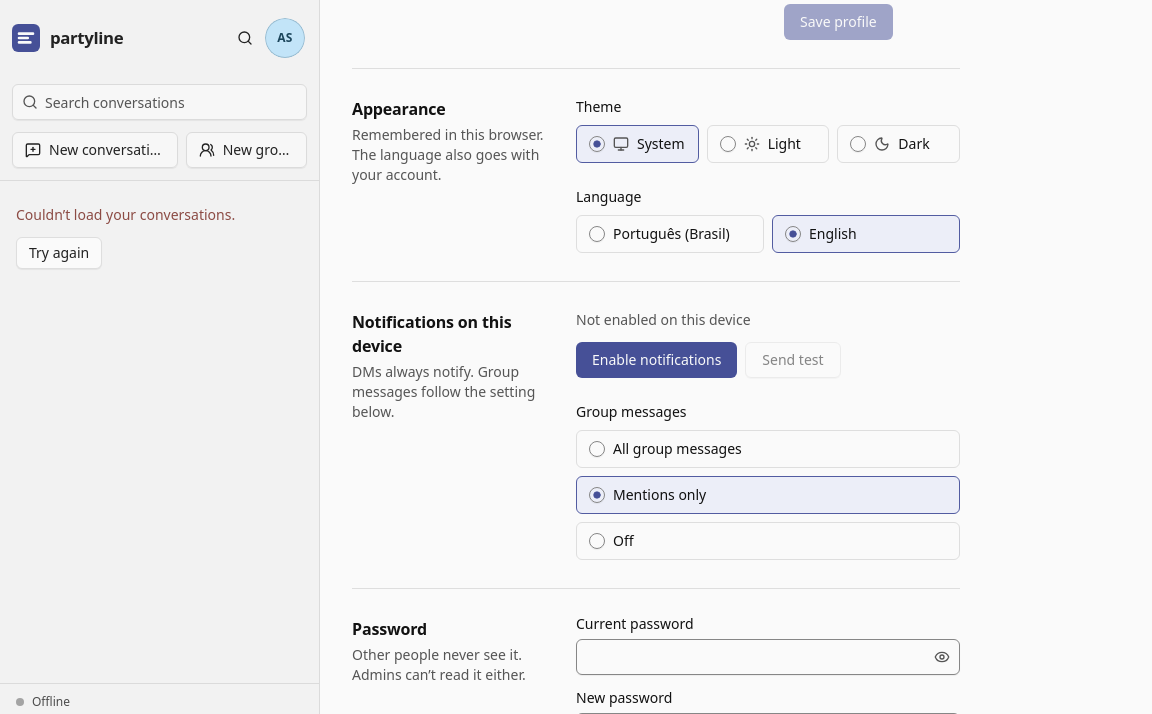
Test: notifications on this device (PUSH-18) › enables notifications on click: permission once, the server key, one POST
(page scrolled)
Click the button "Enable notifications".
click(657, 360)  # box [576,342,737,378]
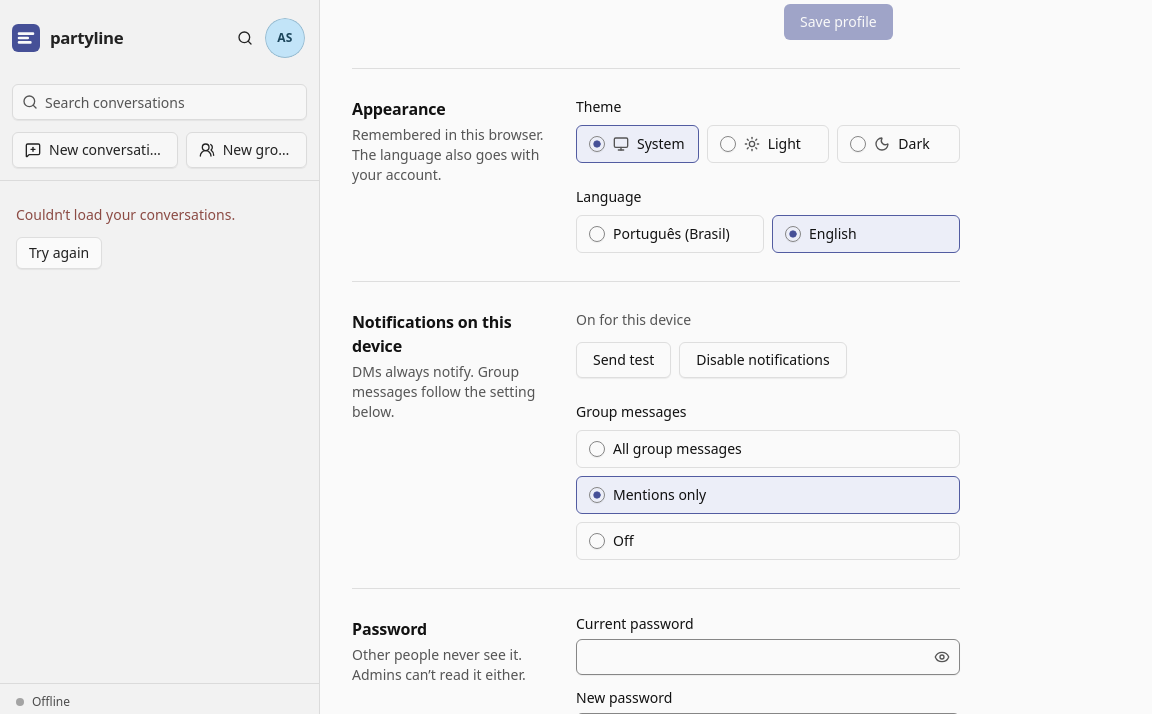
Expected: the button "Disable notifications" is enabled, [679,342,847,378]
Result: the text "On for this device" is shown at [576,310,691,329]
Result: the button "Send test" is enabled at [576,342,671,378]
